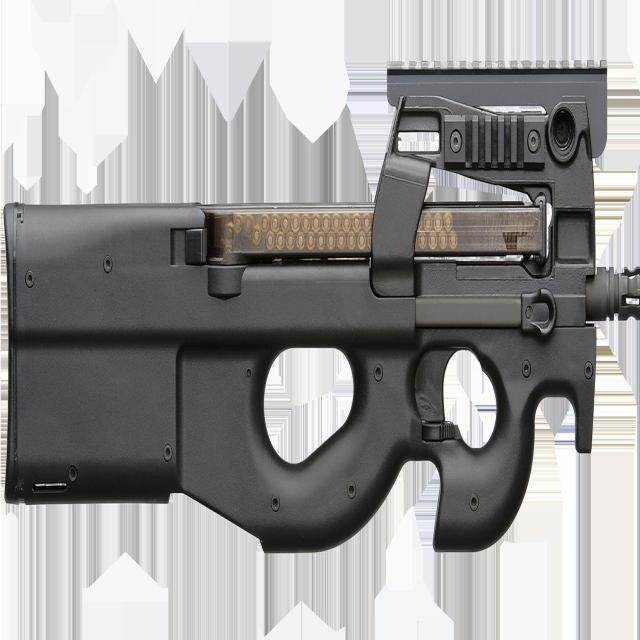Gun: (5, 29, 640, 593)
